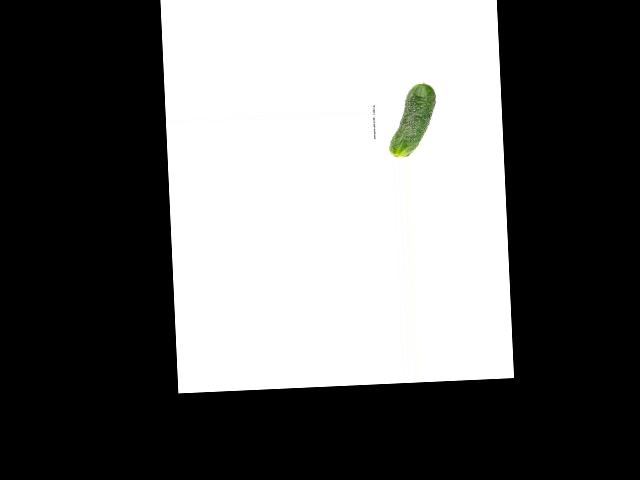cucumber: (386, 82, 438, 157)
